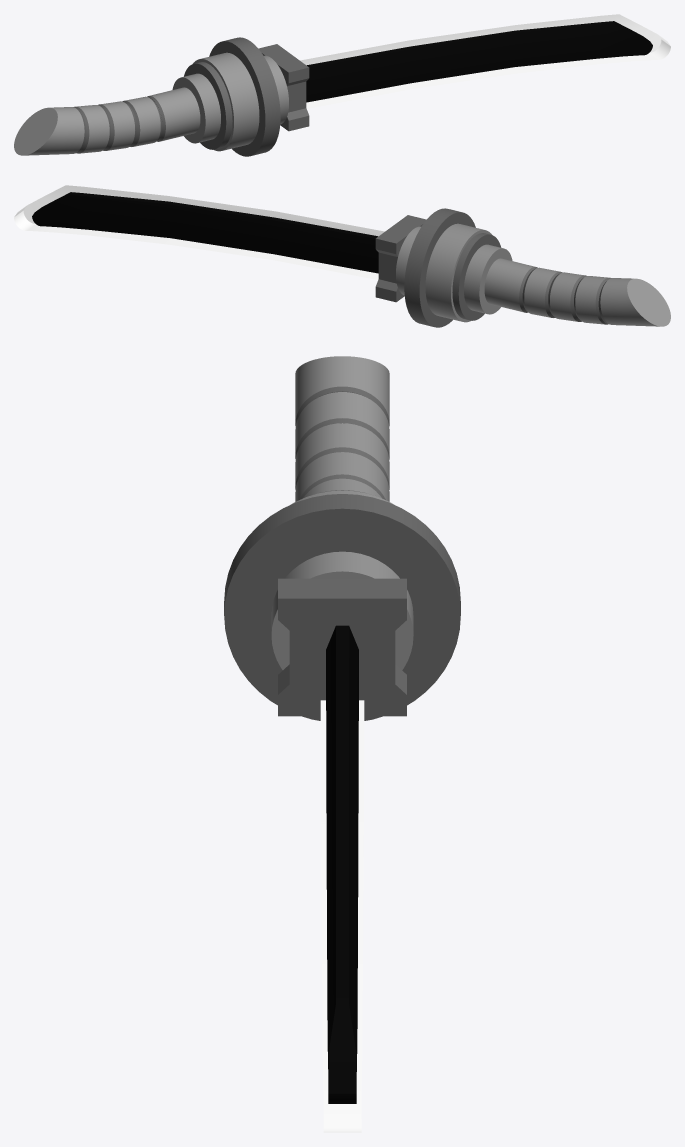
The model's file is lego_dark_saber.glb.
3 views of the same model, one above another, from view 1: azimuth 30°, elevation 25°; view 2: azimuth 150°, elevation 25°; view 3: azimuth 270°, elevation 25° (orthographic). The views are drawn at different scales.
Parts seen in each view (by area): view 1: Lego Dark Saber_2; view 2: Lego Dark Saber_2; view 3: Lego Dark Saber_2.
Part boxes in pixels (x1,y1,x2,y2): Lego Dark Saber_2: [14, 14, 670, 156]; Lego Dark Saber_2: [14, 185, 670, 327]; Lego Dark Saber_2: [224, 356, 460, 1132].
Bounding box in the file's own units: 4.32 × 0.721 × 0.6819.
4 materials, 4 textured.
